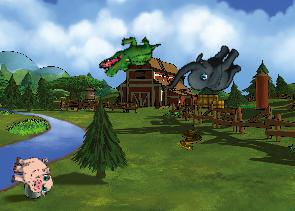crocodile: (96, 22, 162, 90)
elephant: (164, 27, 248, 116)
pig: (8, 152, 56, 197)
